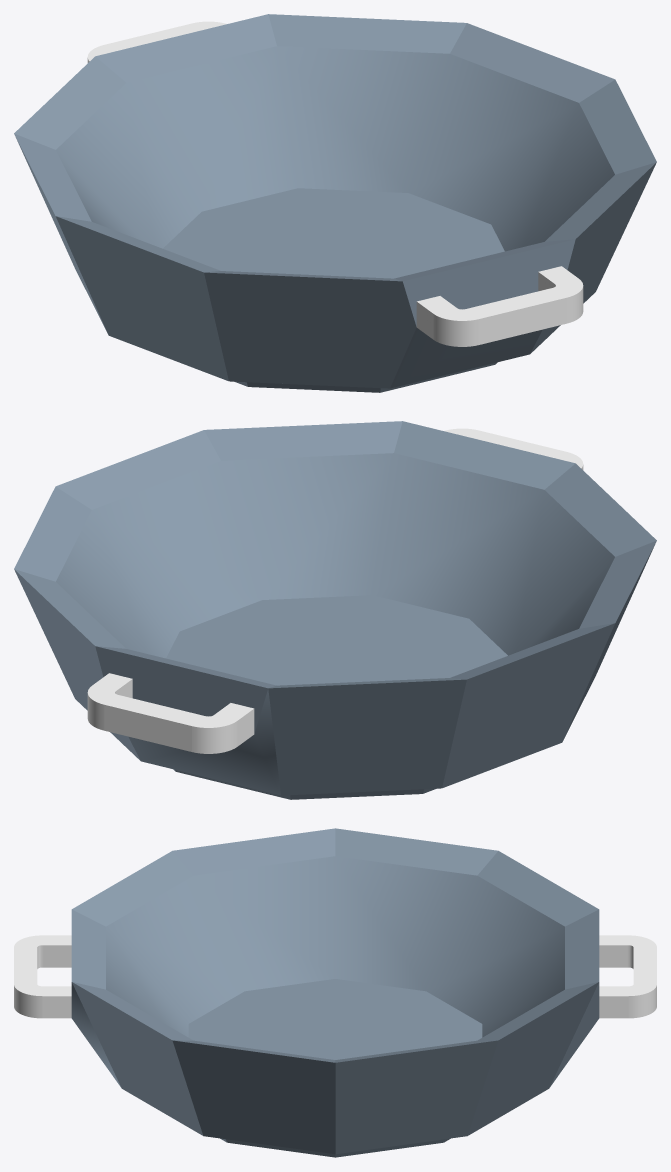
File: pan.fbx
The picture shows the model from 3 angles, top to bottom: view 1: azimuth 30°, elevation 25°; view 2: azimuth 150°, elevation 25°; view 3: azimuth 270°, elevation 25°; orthographic projection. The views are drawn at different scales.
Parts seen in each view (by area): view 1: pan; view 2: pan; view 3: pan.
Boxes of the visible parts, left/top/right/bottom form: pan: left=14, top=14, right=656, bottom=392; pan: left=14, top=421, right=656, bottom=799; pan: left=14, top=828, right=656, bottom=1157.
Size of the model in its own units: 6.57 by 1.75 by 7.62.
